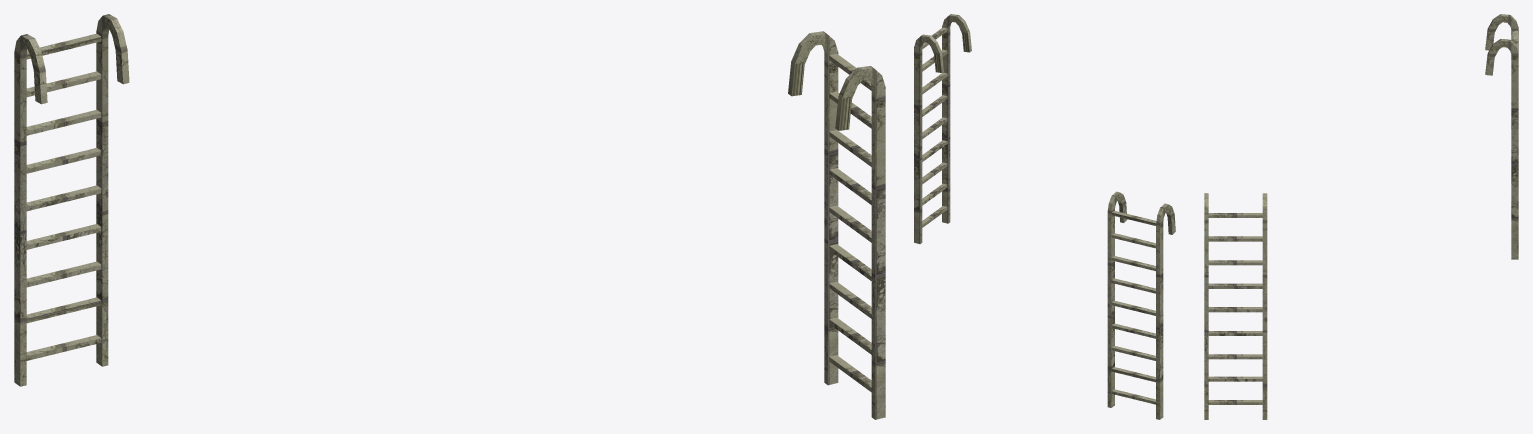
File: SM_NeoLD_04_Ladder_00.fbx
The picture shows the model from 3 angles, left to right: view 1: azimuth 30°, elevation 25°; view 2: azimuth 150°, elevation 25°; view 3: azimuth 270°, elevation 25°; orthographic projection. The views are drawn at different scales.
Visible parts, largest first — view 1: SM_NeoLD_04_Ladder_00; view 2: SM_NeoLD_04_Ladder_00; view 3: SM_NeoLD_04_Ladder_00.
Boxes of the visible parts, left/top/right/bottom form: SM_NeoLD_04_Ladder_00: left=14, top=14, right=885, bottom=419; SM_NeoLD_04_Ladder_00: left=914, top=14, right=1175, bottom=419; SM_NeoLD_04_Ladder_00: left=1204, top=14, right=1518, bottom=419.
Bounding box in the file's own units: 1044 × 570 × 742.
